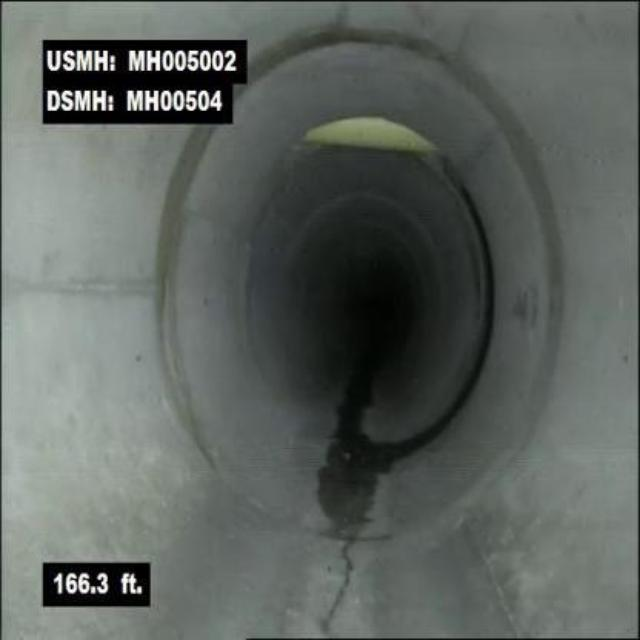Crack: (315, 540, 360, 637)
Utility intrusion: (294, 112, 445, 157)
